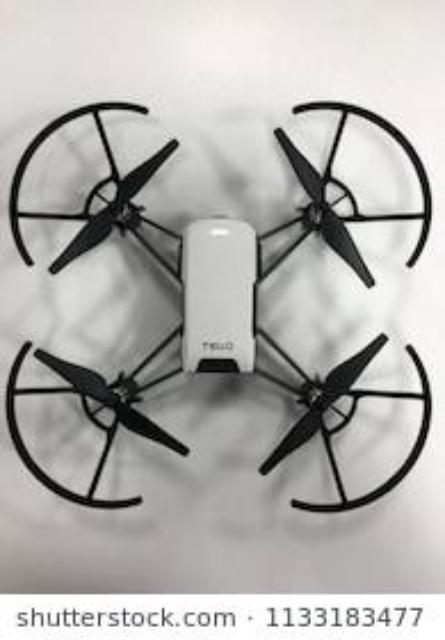drone: (0, 81, 445, 558)
